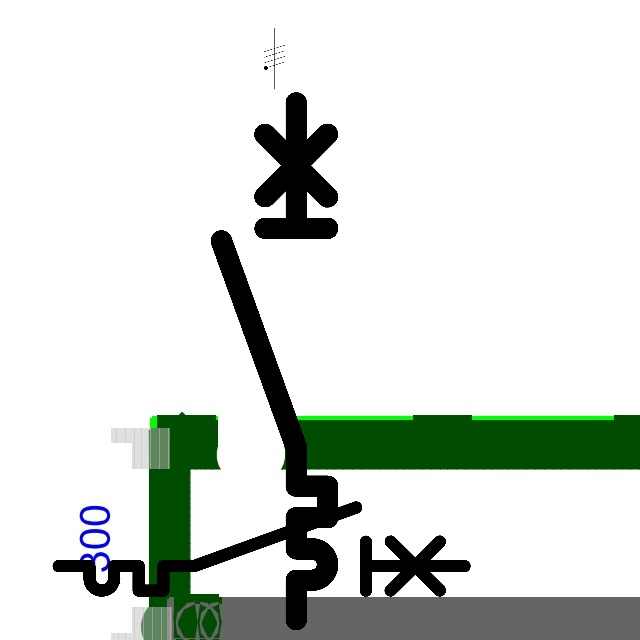interruptor_termomagnetico: (208, 89, 341, 633), (48, 497, 475, 601)
